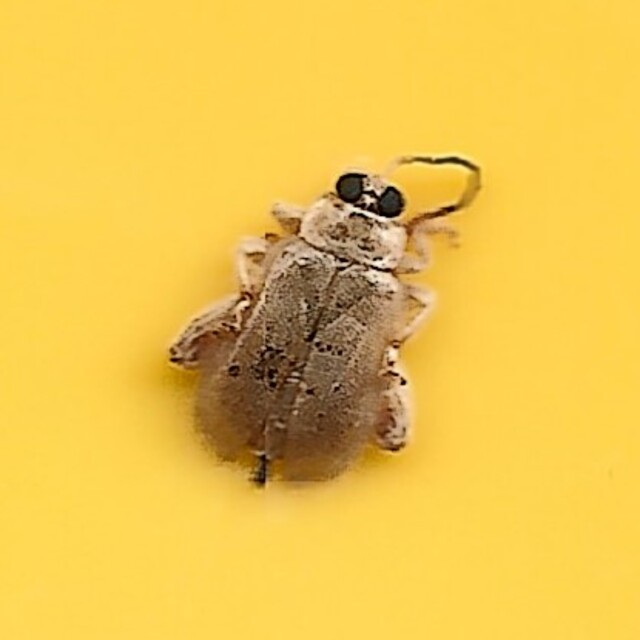Coleoptera: (154, 148, 486, 492)
